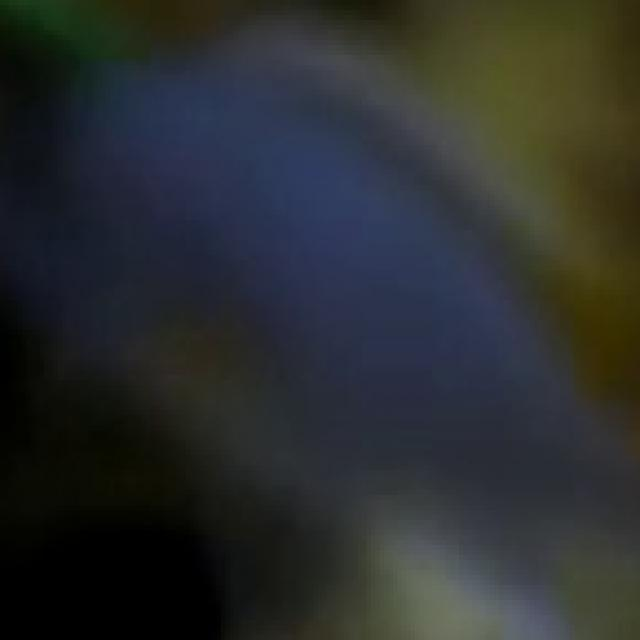fish: (0, 5, 636, 640)
